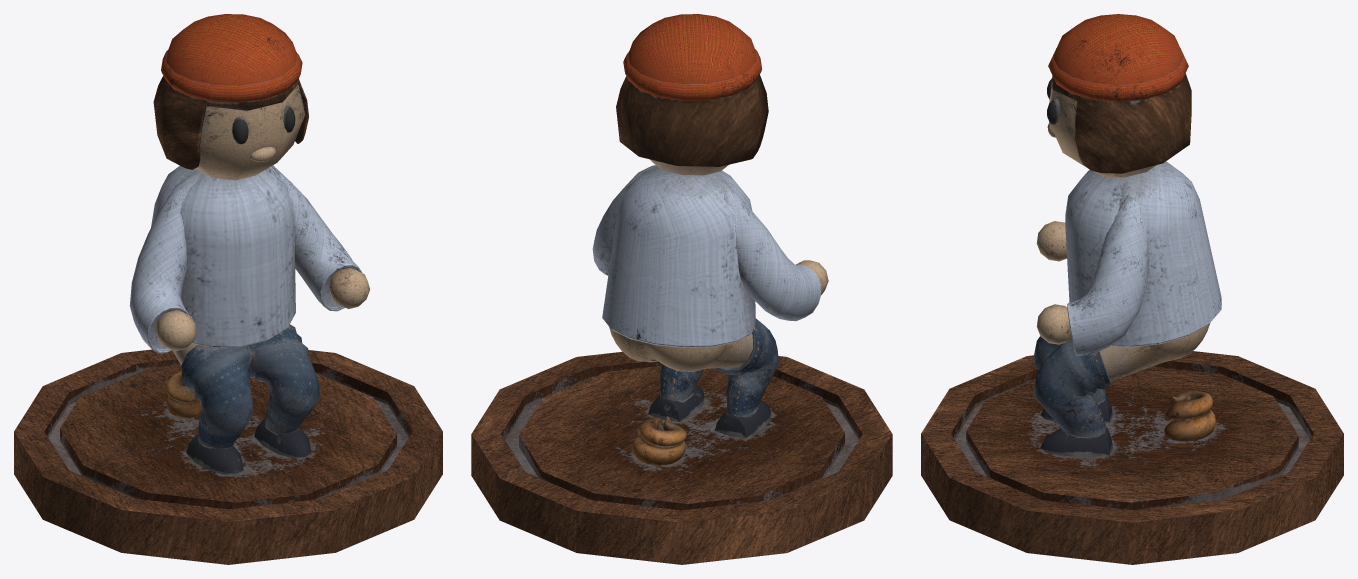
Rendered from Caganer.fbx.
The picture shows the model from 3 angles, left to right: view 1: azimuth 30°, elevation 25°; view 2: azimuth 150°, elevation 25°; view 3: azimuth 270°, elevation 25°; orthographic projection.
Visible parts, largest first — view 1: Circle.009, Cylinder, Cylinder.002, Cylinder.001, Sphere.004, Sphere.001, Sphere, Sphere.005, Sphere.003, Torus.001, excrement, Sphere.008; view 2: Circle.009, Cylinder, Sphere, Cylinder.001, Sphere.004, Cylinder.002, Cylinder.003, Torus.001, Sphere.005, excrement, Sphere.001; view 3: Circle.009, Cylinder, Sphere, Cylinder.001, Sphere.004, Cylinder.002, Torus.001, Cylinder.003, excrement, Sphere.003, Sphere.005, Sphere.001.
Part boxes in pixels (<box>): Circle.009: <box>14,349,442,564</box>; Cylinder: <box>151,166,295,347</box>; Cylinder.002: <box>181,324,319,448</box>; Cylinder.001: <box>129,165,362,353</box>; Sphere.004: <box>166,14,297,85</box>; Sphere.001: <box>195,84,305,180</box>; Sphere: <box>153,76,308,169</box>; Sphere.005: <box>186,417,311,474</box>; Sphere.003: <box>155,267,369,351</box>; Torus.001: <box>161,50,302,102</box>; excrement: <box>165,371,201,419</box>; Sphere.008: <box>232,105,295,144</box>; Circle.009: <box>471,351,892,564</box>; Cylinder: <box>602,166,755,347</box>; Sphere: <box>616,75,768,166</box>; Cylinder.001: <box>592,165,821,321</box>; Sphere.004: <box>628,14,756,84</box>; Cylinder.002: <box>660,318,778,416</box>; Cylinder.003: <box>609,327,752,371</box>; Torus.001: <box>623,49,762,101</box>; Sphere.005: <box>648,385,771,438</box>; excrement: <box>632,416,686,465</box>; Sphere.001: <box>650,159,728,175</box>; Circle.009: <box>921,351,1343,564</box>; Cylinder: <box>1065,161,1221,347</box>; Sphere: <box>1052,73,1191,173</box>; Cylinder.001: <box>1067,182,1148,356</box>; Sphere.004: <box>1053,14,1183,85</box>; Cylinder.002: <box>1033,336,1111,438</box>; Torus.001: <box>1048,48,1188,101</box>; Cylinder.003: <box>1100,323,1210,381</box>; excrement: <box>1164,391,1216,441</box>; Sphere.003: <box>1036,221,1071,344</box>; Sphere.005: <box>1040,395,1112,456</box>; Sphere.001: <box>1049,82,1156,177</box>.
Bounding box in the file's own units: 302 × 356 × 302.
1 material, 1 textured.
